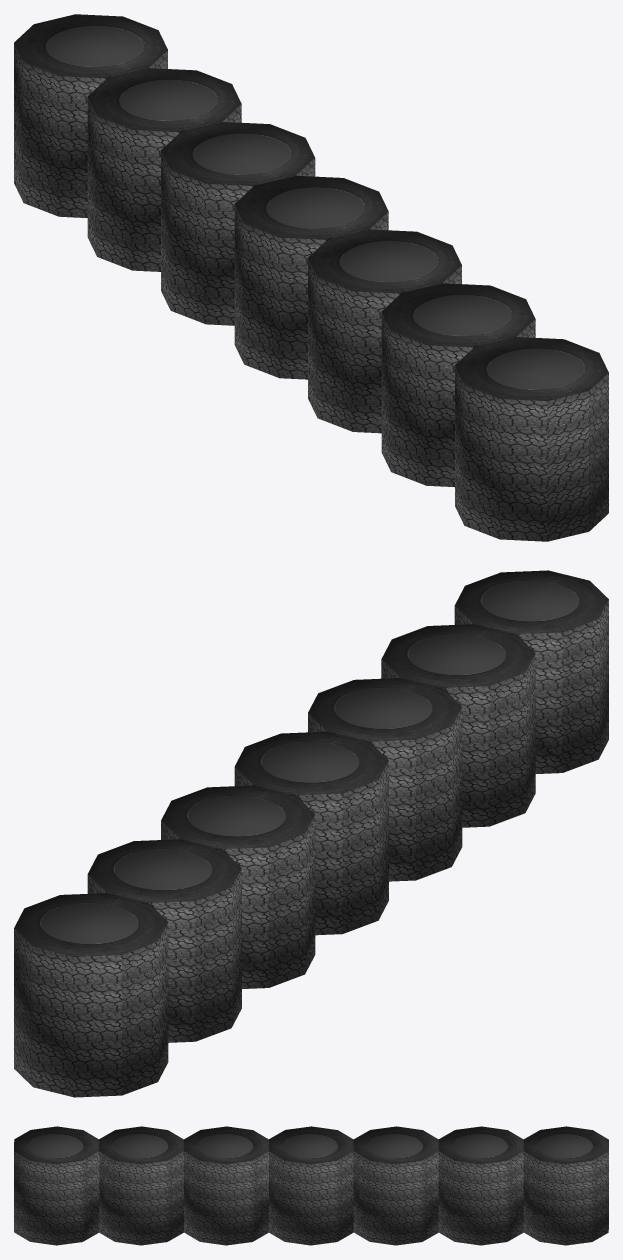
Rendered from wheels_straight.fbx.
The picture shows the model from 3 angles, top to bottom: view 1: azimuth 30°, elevation 25°; view 2: azimuth 150°, elevation 25°; view 3: azimuth 270°, elevation 25°; orthographic projection. The views are drawn at different scales.
Visible parts, largest first — view 1: wheels_straight; view 2: wheels_straight; view 3: wheels_straight.
Boxes of the visible parts, bbox=[...] form: wheels_straight: bbox=[14, 14, 608, 541]; wheels_straight: bbox=[14, 570, 608, 1097]; wheels_straight: bbox=[14, 1126, 608, 1245].
Size of the model in its own units: 30.36 by 30.36 by 201.
